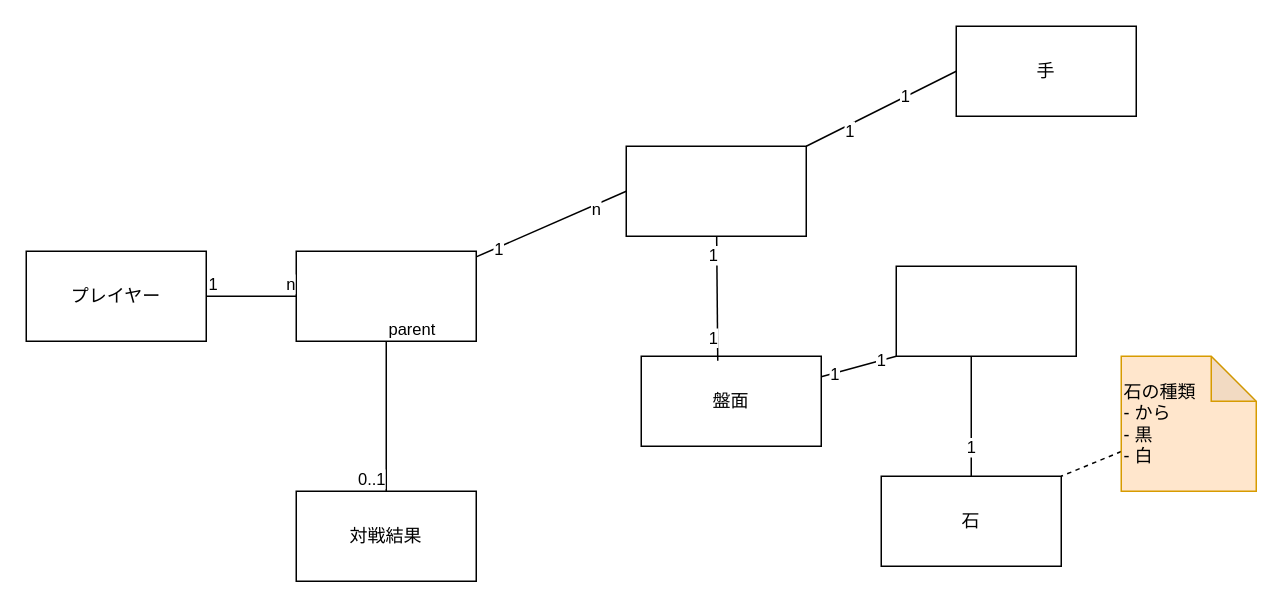
This 1283x608 diagram has some shape labels left out. The box of each missing label's shape, as (x1, y1, x2, y2) in pixels:
ターン: (625, 145, 806, 236)
マス目: (895, 265, 1076, 356)
対戦(開始): (295, 250, 476, 341)
